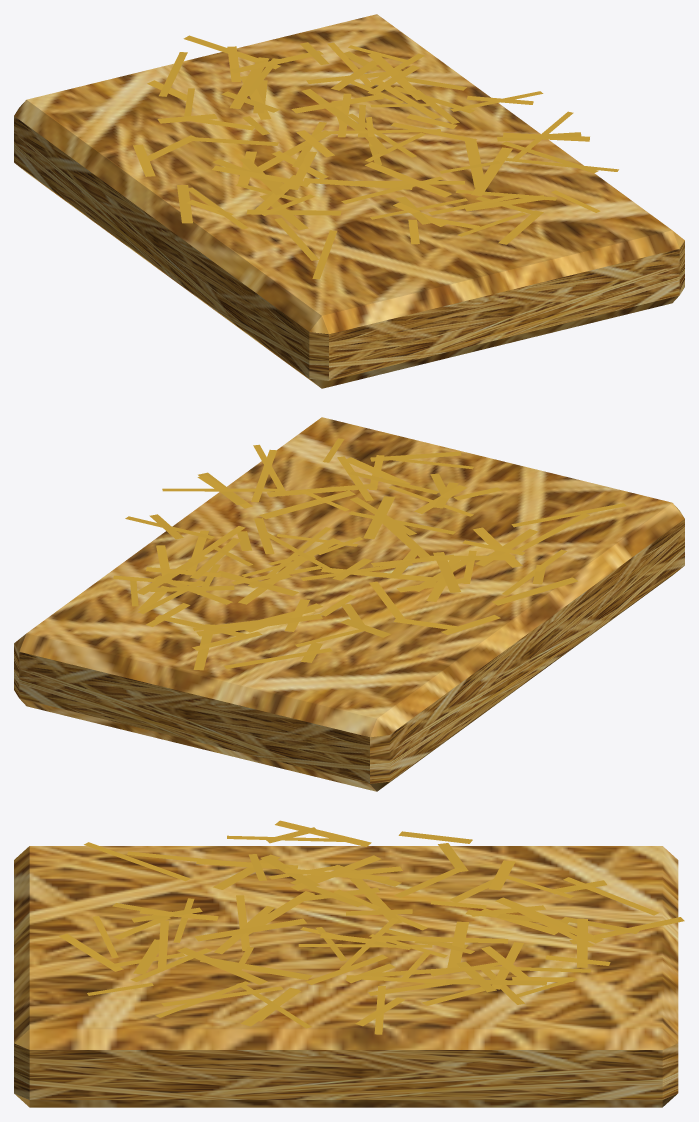
Rendered from BarnCozy_Fill1_2.fbx.
3 renders of one model, top to bottom at view 1: azimuth 30°, elevation 25°; view 2: azimuth 150°, elevation 25°; view 3: azimuth 270°, elevation 25°, orthographic. The views are drawn at different scales.
Visible parts, largest first — view 1: BarnCozy_Fill1_2; view 2: BarnCozy_Fill1_2; view 3: BarnCozy_Fill1_2.
Part boxes in pixels (x1=…): BarnCozy_Fill1_2: x1=14, y1=14, x2=684, y2=388; BarnCozy_Fill1_2: x1=14, y1=417, x2=684, y2=791; BarnCozy_Fill1_2: x1=14, y1=820, x2=684, y2=1107.
Bounding box in the file's own units: 0.7566 × 0.159 × 1.01.
